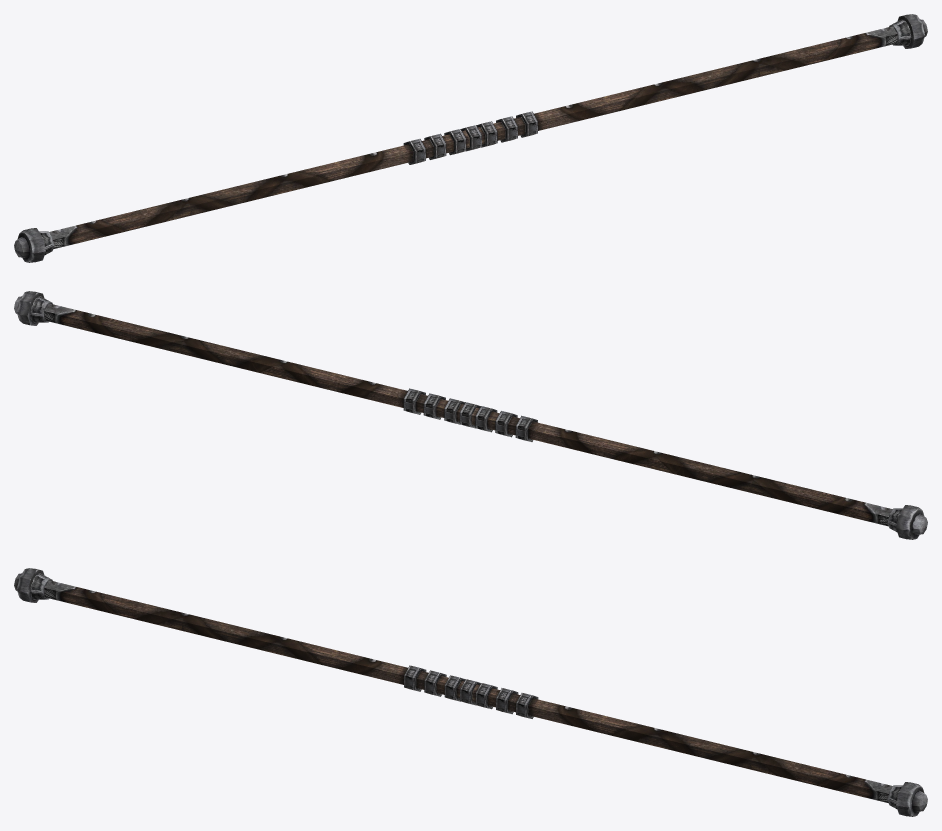
The model's file is 2H_STAFF_03.glb.
3 views of the same model, one above another, from view 1: azimuth 30°, elevation 25°; view 2: azimuth 150°, elevation 25°; view 3: azimuth 330°, elevation 25° (orthographic).
Parts seen in each view (by area): view 1: 2H_STAFF_03; view 2: 2H_STAFF_03; view 3: 2H_STAFF_03.
Boxes of the visible parts, x1=… form: 2H_STAFF_03: x1=14, y1=14, x2=927, y2=262; 2H_STAFF_03: x1=14, y1=291, x2=927, y2=539; 2H_STAFF_03: x1=14, y1=568, x2=927, y2=816.
Size of the model in its own units: 1.92 by 0.0671 by 0.0671.
Materials: 1 (1 with a texture image).
